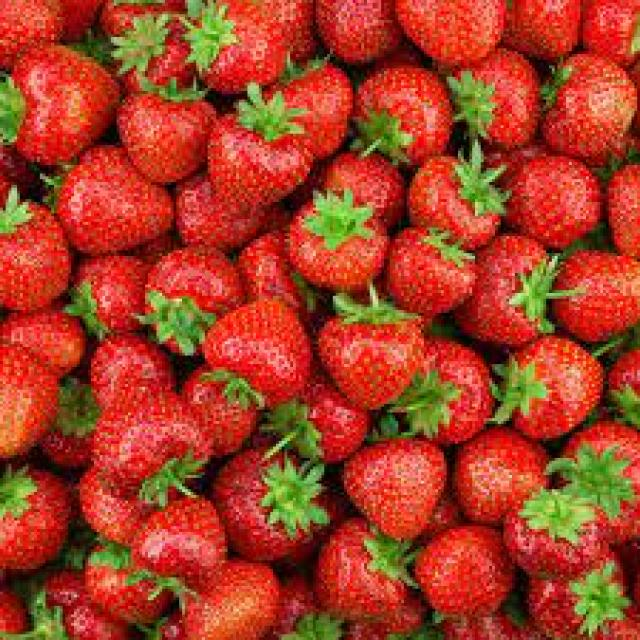strawberry: (202, 86, 323, 222), (213, 440, 323, 570), (38, 150, 178, 250), (0, 34, 112, 159), (86, 392, 210, 497), (198, 296, 313, 405), (320, 287, 426, 400), (495, 340, 608, 441), (340, 436, 452, 537), (342, 66, 453, 160), (506, 152, 611, 248), (130, 504, 232, 602), (119, 77, 215, 181), (311, 524, 414, 618), (462, 235, 556, 336), (401, 348, 499, 442), (545, 62, 640, 155), (292, 196, 386, 289), (410, 160, 506, 250), (416, 520, 508, 610), (458, 58, 544, 150), (464, 436, 552, 518)
